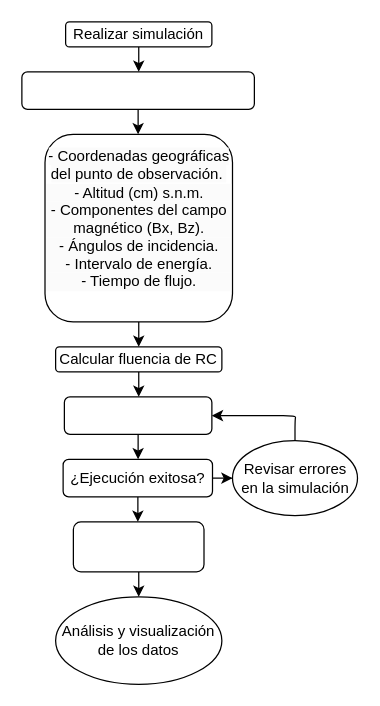
Some shapes in this 380 by 706 pixel diagram are drawn without their labels. Here are the shapes that lost their labels. From the top down, the box of each, then its label:
(21, 71, 254, 109): Ingresar datos:
(63, 396, 212, 434): Ejecutar simulación en el clúster
(72, 521, 204, 572): Guardar archivos de salida .dat
